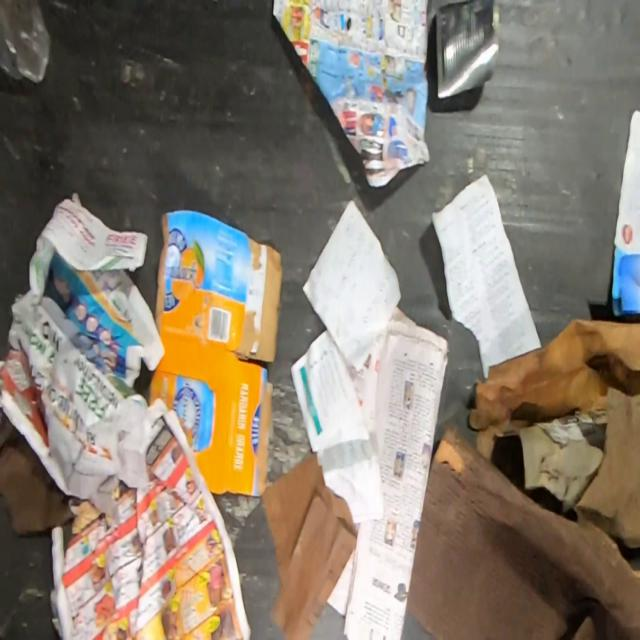cardboard: (406, 424, 640, 639), (148, 208, 283, 498), (475, 396, 607, 514), (571, 384, 640, 557), (0, 434, 74, 538), (610, 109, 640, 319)
metal: (435, 0, 502, 101)
soft_plastic: (0, 0, 53, 85)
